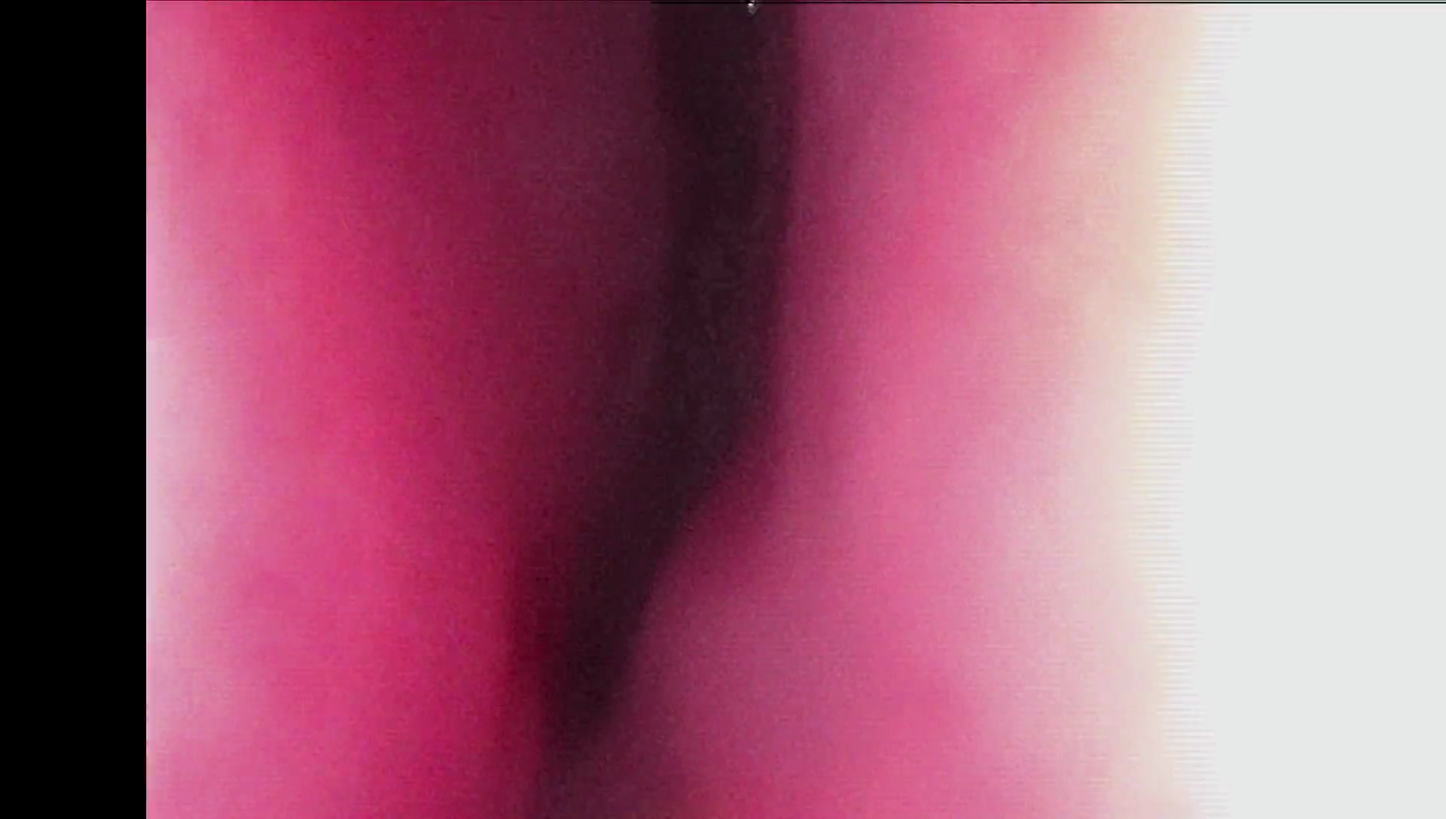close_wall: (898, 7, 1443, 819), (149, 78, 422, 819)
next: (501, 337, 779, 759), (605, 60, 825, 465)
